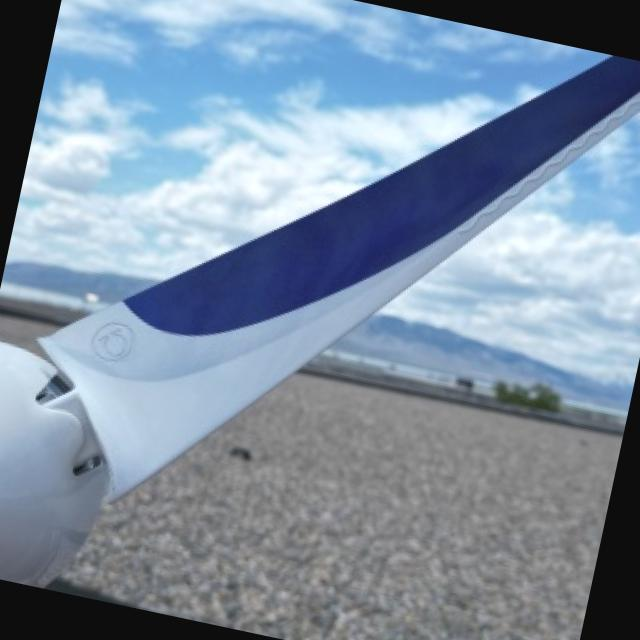healthy: (0, 54, 640, 584)
